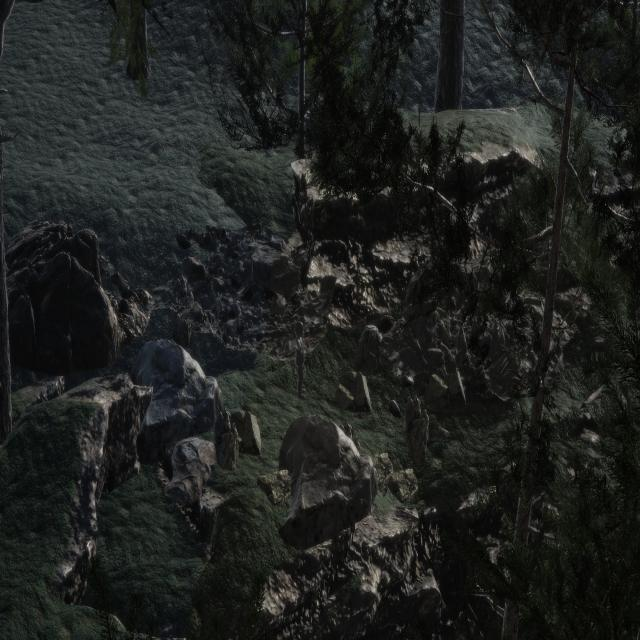Human: (288, 314, 312, 406)
